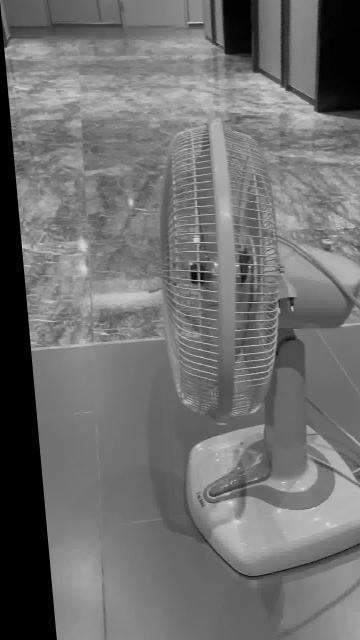Fan: (156, 119, 360, 580)
